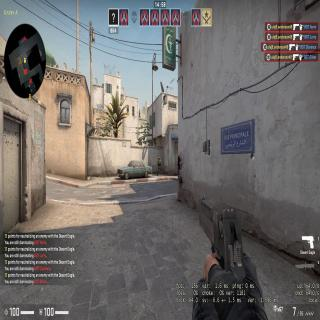CT-Body: (156, 156, 162, 176)
CT-Head: (158, 156, 160, 160)
